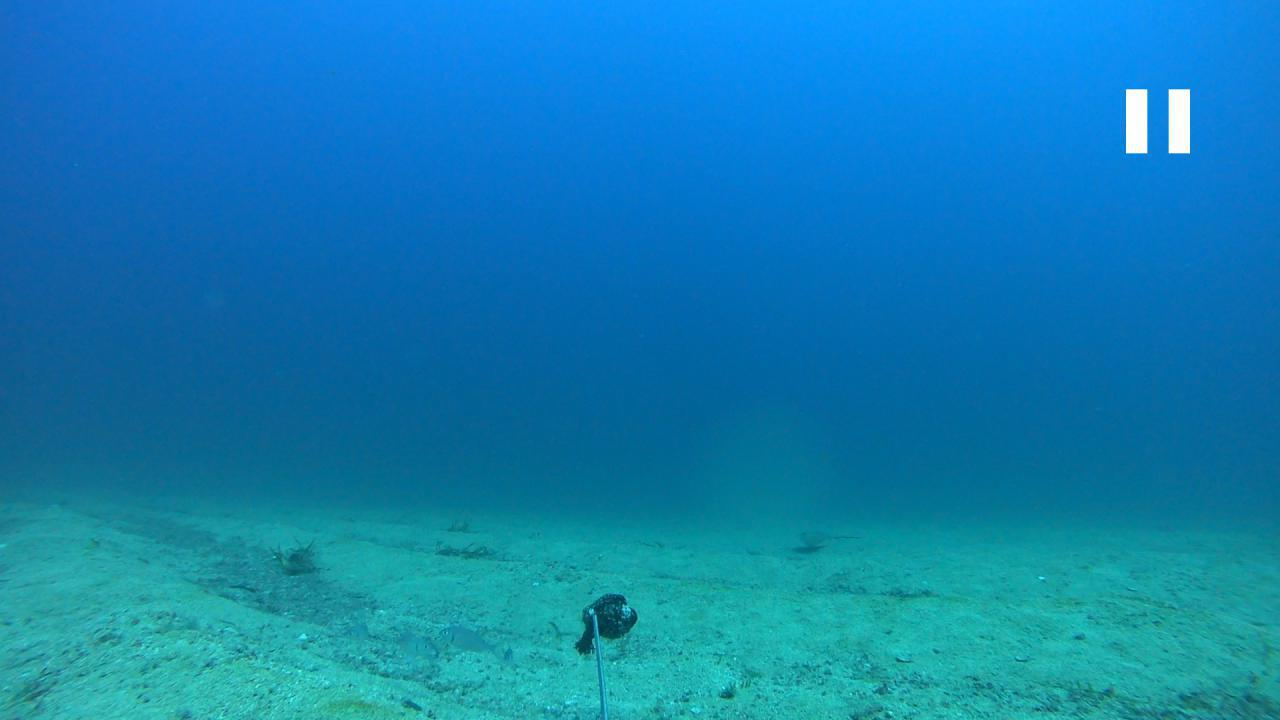dasyatis: (793, 527, 860, 548)
pagellus: (435, 622, 501, 660), (374, 628, 436, 660)
